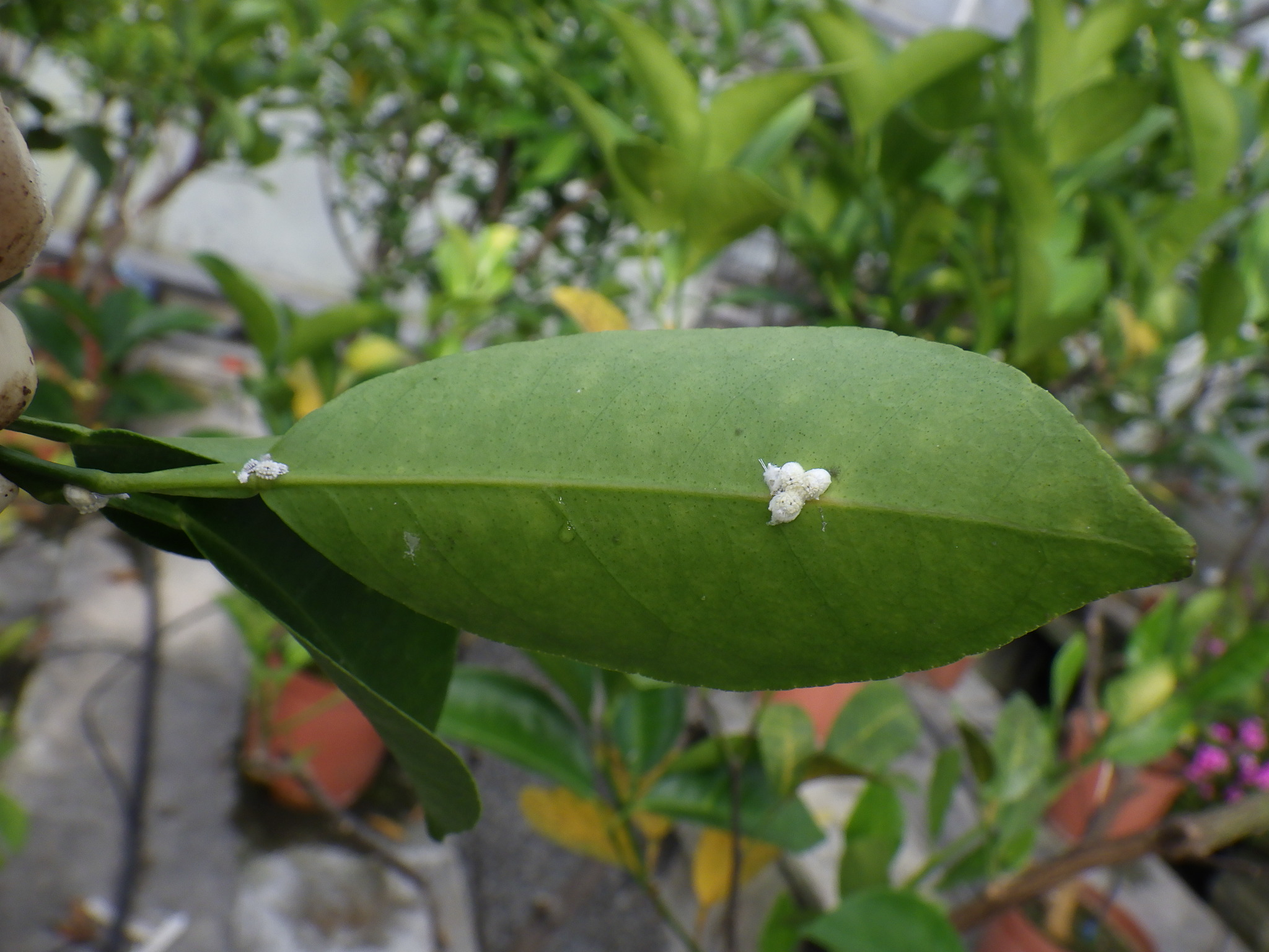Scale_Insect: (759, 459, 831, 524), (236, 458, 288, 482)
